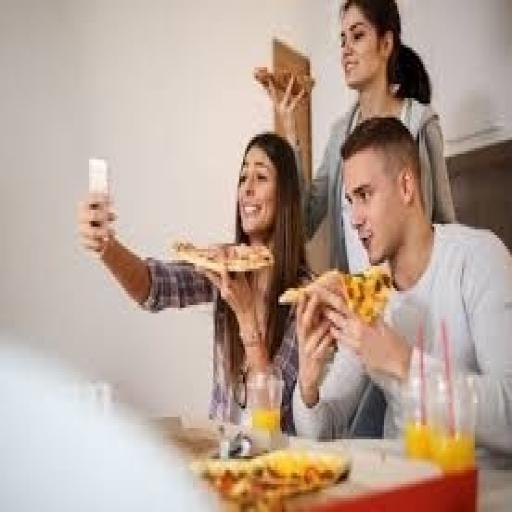eating: (290, 115, 510, 453), (76, 128, 315, 434)
